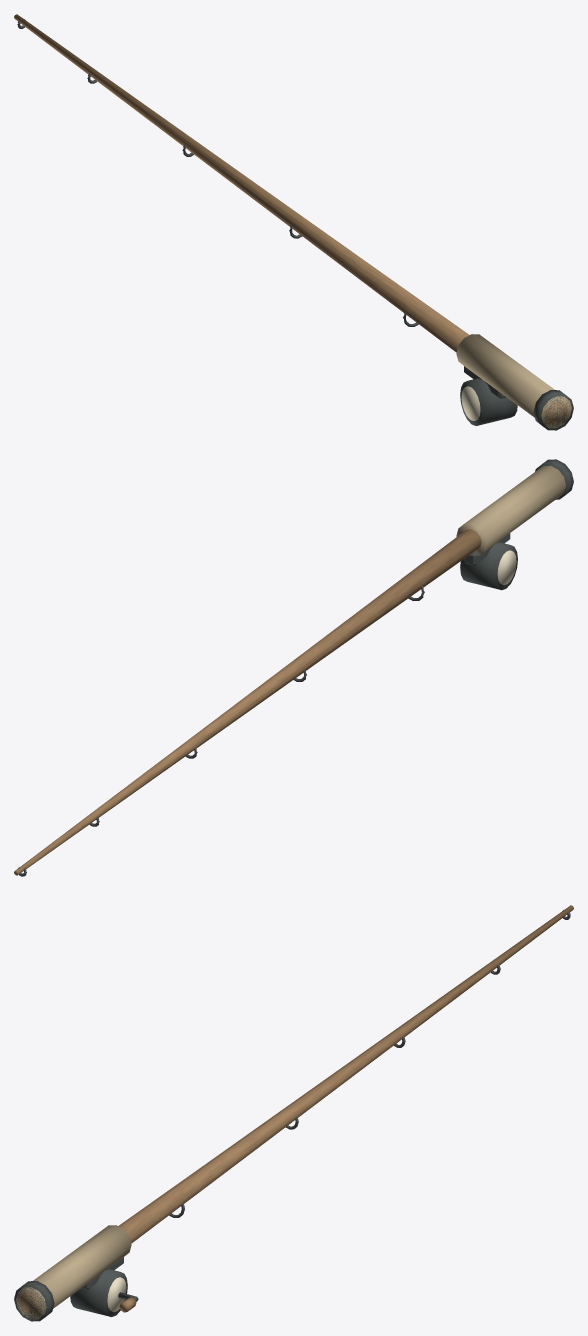
The model's file is fishing_rod.fbx.
3 views of the same model, one above another, from view 1: azimuth 30°, elevation 25°; view 2: azimuth 150°, elevation 25°; view 3: azimuth 330°, elevation 25° (orthographic).
Parts seen in each view (by area): view 1: fishing_rod; view 2: fishing_rod; view 3: fishing_rod.
Part boxes in pixels (x1,y1,x2,y2): fishing_rod: [14, 14, 573, 430]; fishing_rod: [14, 459, 573, 876]; fishing_rod: [14, 905, 573, 1321].
Bounding box in the file's own units: 0.09 × 0.108 × 1.4.
1 material, 1 textured.
